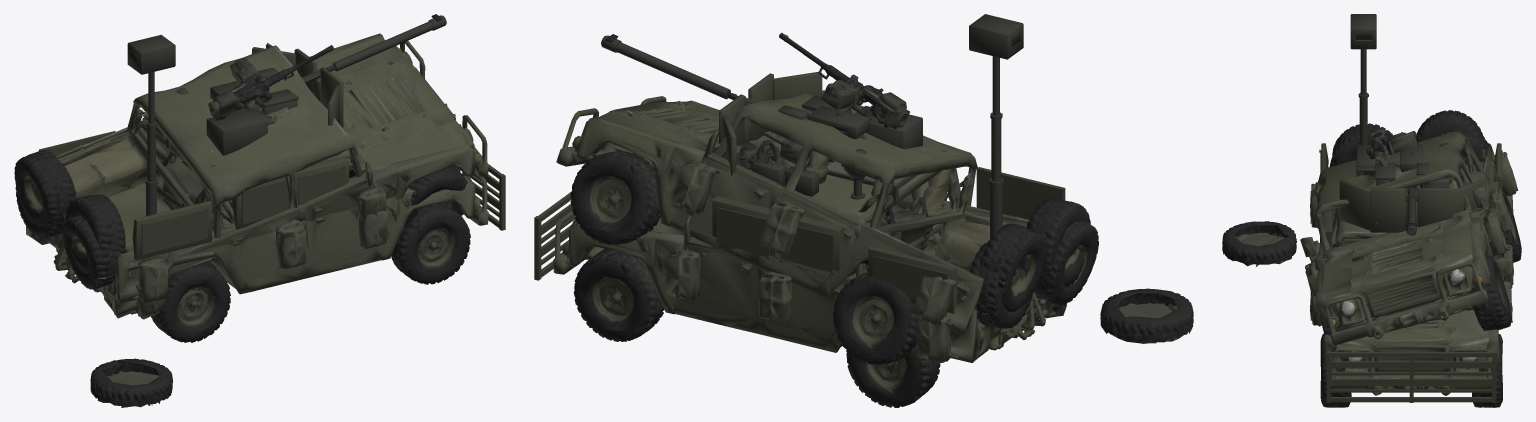
Rendered from jeep_shoded.glb.
3 renders of one model, left to right at view 1: azimuth 30°, elevation 25°; view 2: azimuth 150°, elevation 25°; view 3: azimuth 270°, elevation 25°, orthographic. The views are drawn at different scales.
Visible parts, largest first — view 1: WRECK_hull_hull, hull_rubber, WRECK_hull_rubber, hull_hull, kit_armour_3_hull_hull, kit_armour_1_hull_hull, kit_sensors_3_hull_hull, WRECK_hull_metal, kit_sensors_2_hull_hull, kit_armour_2_hull_metal, kit_firepower_3_hull_metal, kit_firepower_2_hull_metal; view 2: WRECK_hull_hull, WRECK_hull_rubber, hull_rubber, hull_hull, kit_armour_3_hull_hull, kit_armour_1_hull_hull, kit_sensors_3_hull_hull, kit_armour_2_hull_metal, WRECK_hull_metal, kit_firepower_3_hull_metal, kit_sensors_2_hull_hull, WRECK_hull_plate (+2 smaller); view 3: WRECK_hull_hull, hull_hull, WRECK_hull_rubber, kit_armour_2_hull_metal, kit_armour_3_hull_hull, kit_armour_3_hull_hull_far, hull_rubber, kit_armour_3_hull_hull_near, kit_sensors_3_hull_hull, WRECK_hull_metal, kit_firepower_3_hull_metal, kit_sensors_2_hull_hull (+5 smaller).
Boxes of the visible parts, x1,y1,x2,y2 form: WRECK_hull_hull: (14, 39, 484, 311); hull_rubber: (16, 179, 488, 342); WRECK_hull_rubber: (14, 33, 488, 407); hull_hull: (15, 119, 484, 330); kit_armour_3_hull_hull: (39, 131, 505, 260); kit_armour_1_hull_hull: (142, 118, 348, 229); kit_sensors_3_hull_hull: (127, 34, 175, 216); WRECK_hull_metal: (208, 45, 333, 120); kit_sensors_2_hull_hull: (166, 108, 274, 167); kit_armour_2_hull_metal: (252, 47, 343, 127); kit_firepower_3_hull_metal: (210, 14, 446, 99); kit_firepower_2_hull_metal: (254, 67, 325, 115); WRECK_hull_hull: (567, 90, 1098, 362); WRECK_hull_rubber: (556, 99, 1193, 364); hull_rubber: (553, 203, 1029, 407); hull_hull: (557, 134, 1090, 393); kit_armour_3_hull_hull: (534, 167, 1065, 313); kit_armour_1_hull_hull: (712, 196, 946, 274); kit_sensors_3_hull_hull: (969, 14, 1023, 239); kit_armour_2_hull_metal: (719, 71, 822, 175); WRECK_hull_metal: (779, 32, 909, 129); kit_firepower_3_hull_metal: (601, 34, 869, 139); kit_sensors_2_hull_hull: (807, 105, 947, 202); WRECK_hull_plate: (760, 200, 804, 254); WRECK_hull_hull: (1300, 110, 1505, 344); hull_hull: (1311, 123, 1507, 407); WRECK_hull_rubber: (1222, 143, 1521, 349); kit_armour_2_hull_metal: (1339, 179, 1483, 232); kit_armour_3_hull_hull: (1319, 143, 1502, 402); kit_armour_3_hull_hull_far: (1331, 361, 1492, 385); hull_rubber: (1310, 182, 1513, 407); kit_armour_3_hull_hull_near: (1331, 364, 1492, 392); kit_sensors_3_hull_hull: (1350, 14, 1376, 144); WRECK_hull_metal: (1366, 128, 1418, 166); kit_firepower_3_hull_metal: (1400, 144, 1422, 235); kit_sensors_2_hull_hull: (1348, 145, 1417, 201).
Size of the model in its own units: 5.41 by 3.38 by 3.43.
1 material, 1 textured.
